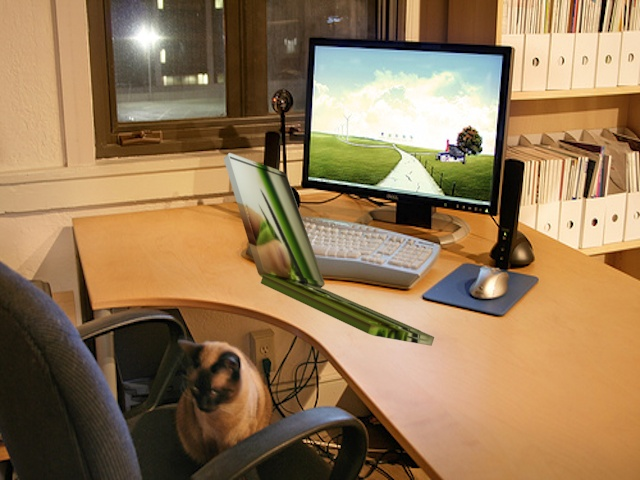mobile_phone: (217, 145, 448, 353)
